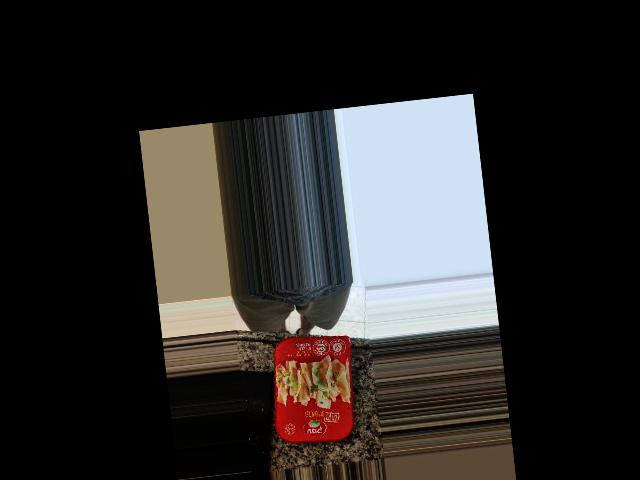cheese: (265, 328, 362, 449)
